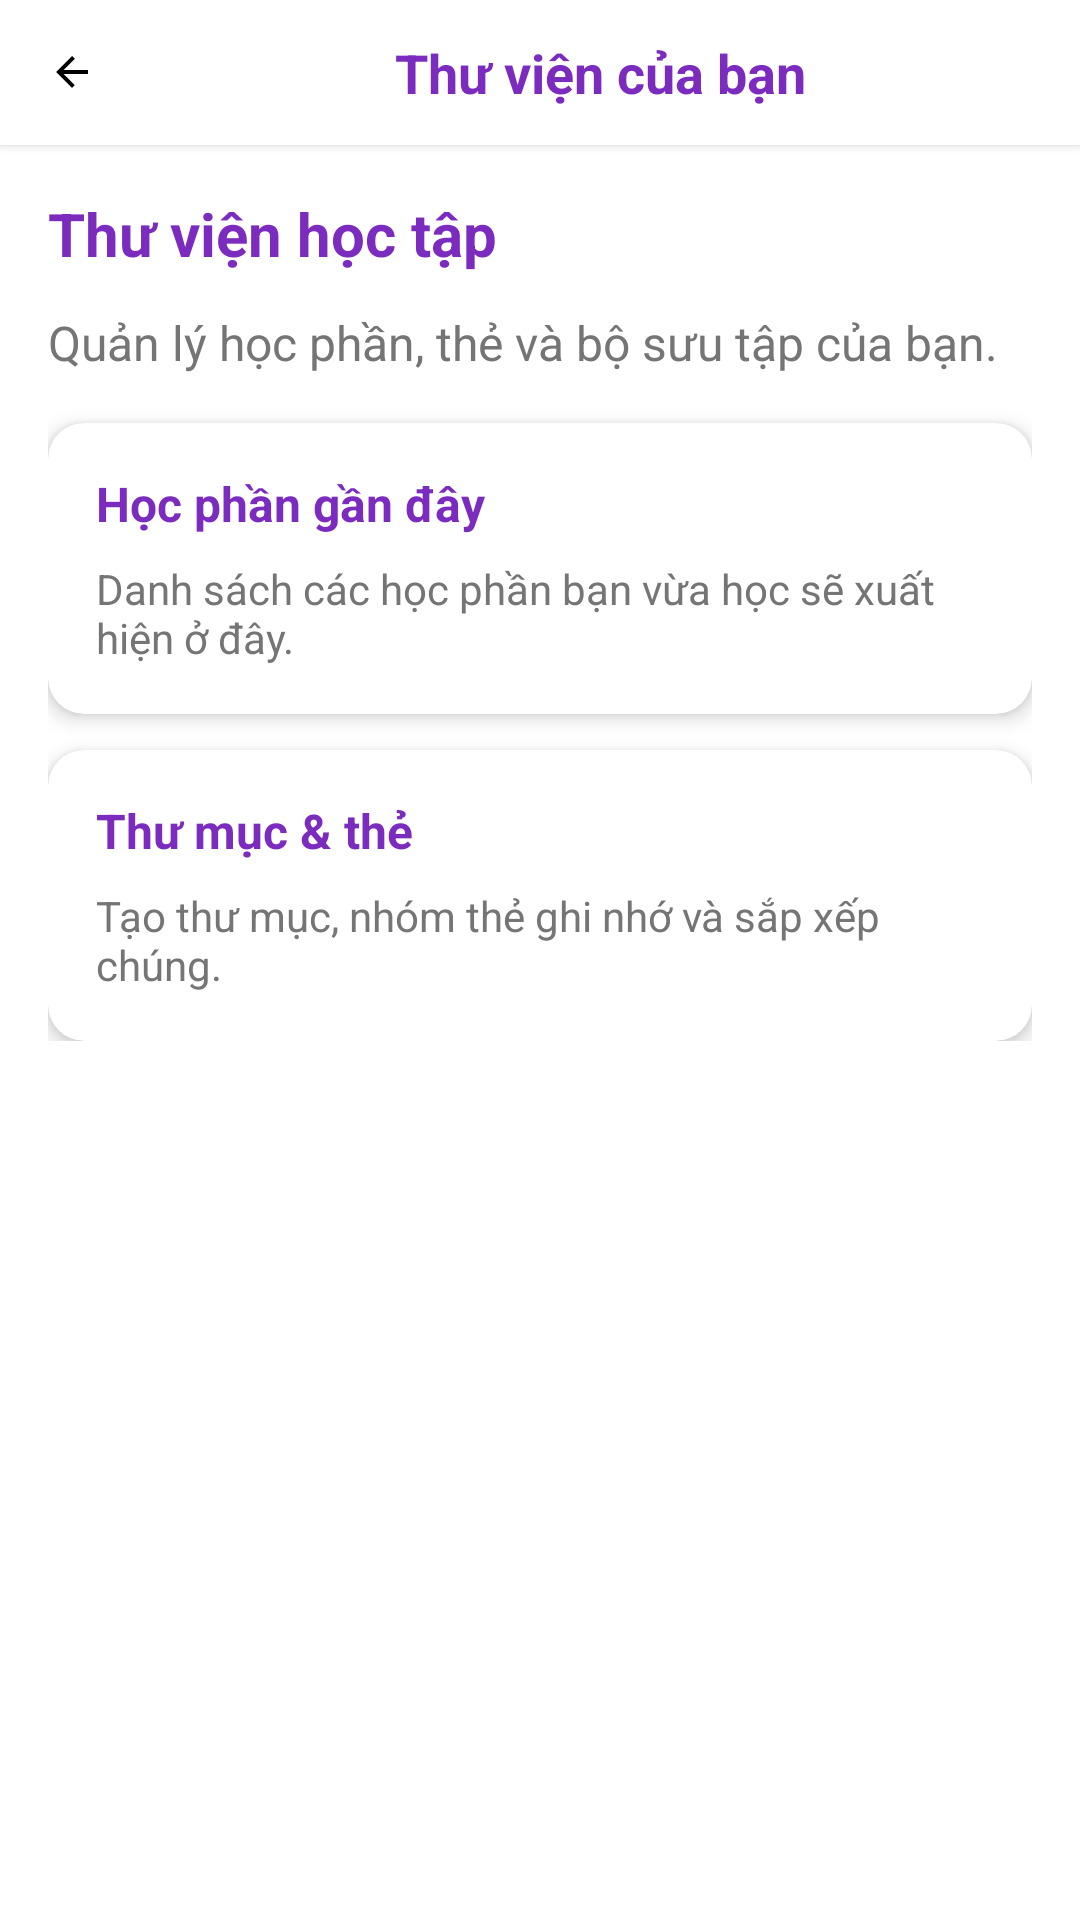

Named icons in this screenshot (1080*1920) and their centers, (x,y):
arrow back: (72,72)
